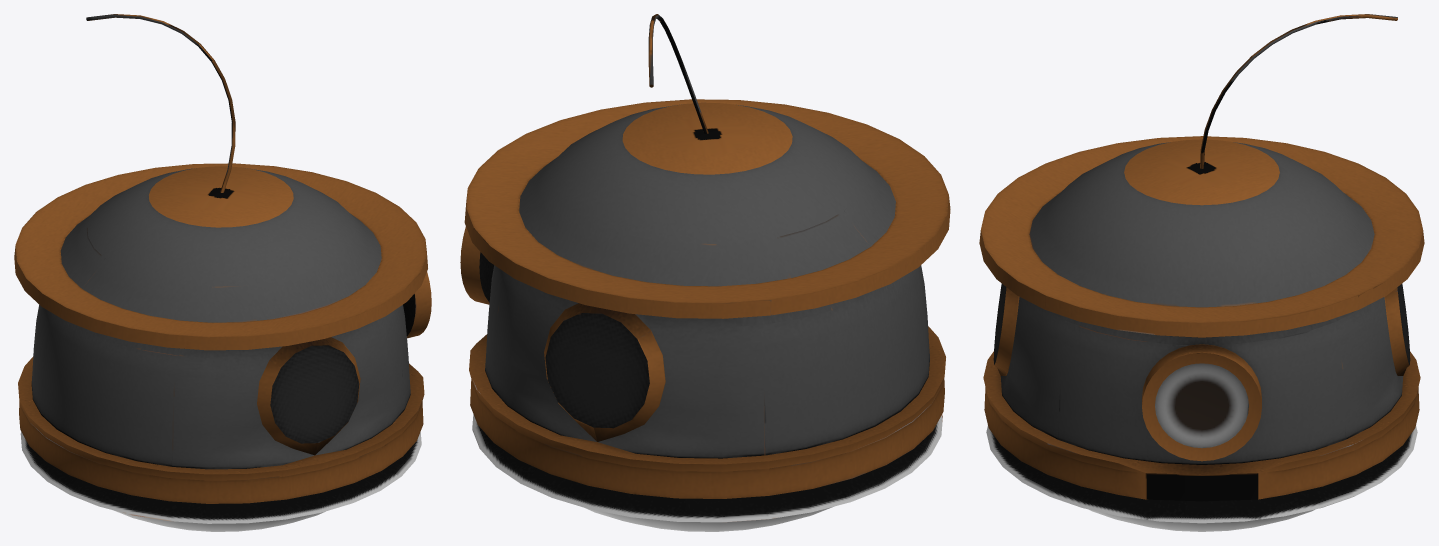
File: droid.fbx
The picture shows the model from 3 angles, left to right: view 1: azimuth 30°, elevation 25°; view 2: azimuth 150°, elevation 25°; view 3: azimuth 270°, elevation 25°; orthographic projection. The views are drawn at different scales.
Visible parts, largest first — view 1: Droid, Orb; view 2: Droid, Orb; view 3: Droid, Orb.
Part boxes in pixels (bbox=[...]): Droid: bbox=[14, 14, 431, 523]; Orb: bbox=[114, 510, 325, 531]; Droid: bbox=[460, 14, 950, 522]; Orb: bbox=[585, 506, 833, 531]; Droid: bbox=[979, 14, 1424, 523]; Orb: bbox=[1089, 509, 1314, 531].
Size of the model in its own units: 219 by 220 by 257.
